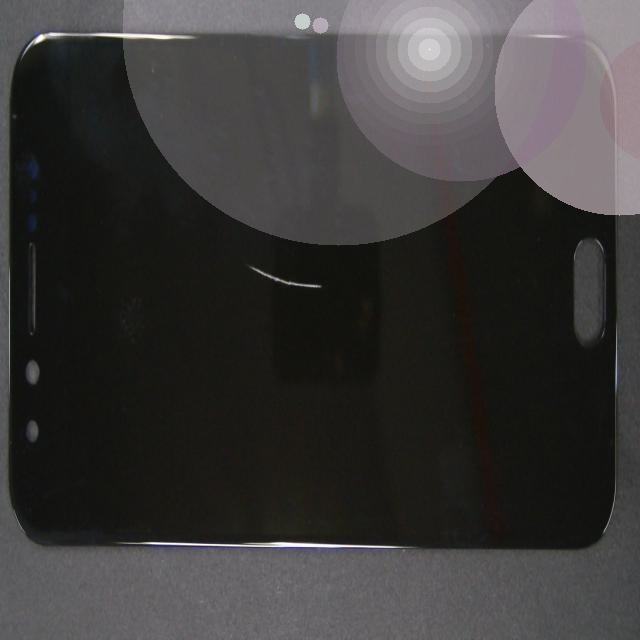scratch: (81, 132, 388, 433)
